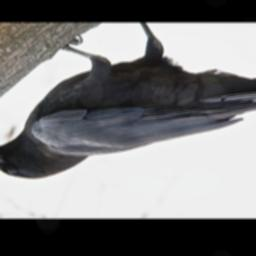Crow: (0, 23, 256, 179)
